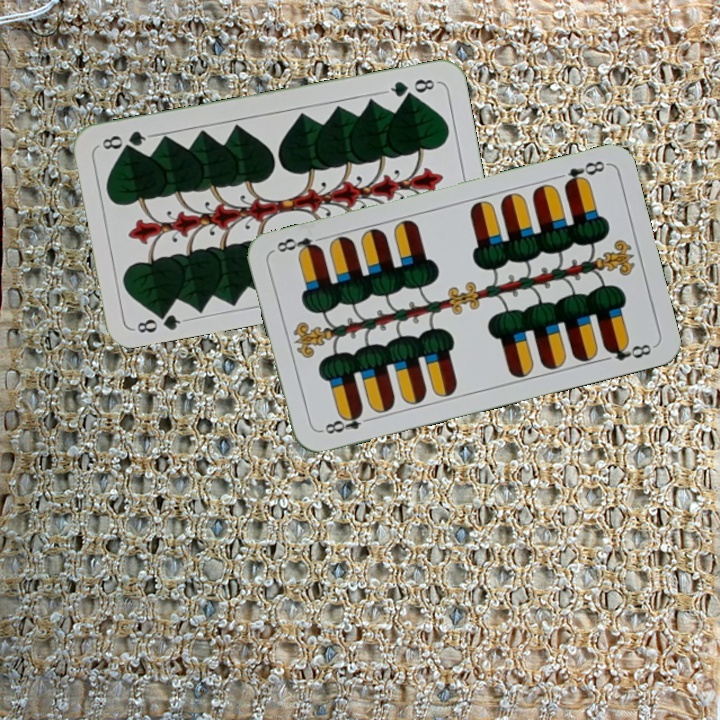E8: (317, 406, 375, 437), (560, 156, 609, 190)
G8: (131, 305, 189, 336), (382, 75, 440, 101)
